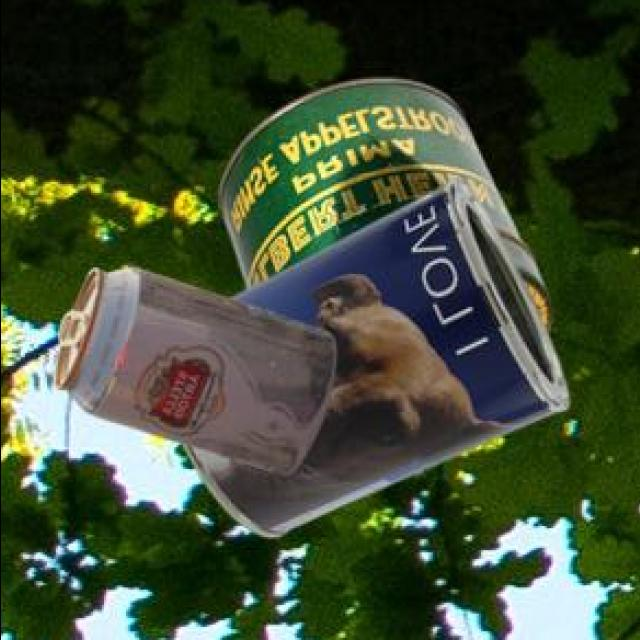logam: (181, 174, 564, 534), (216, 76, 547, 330), (49, 264, 332, 472)
